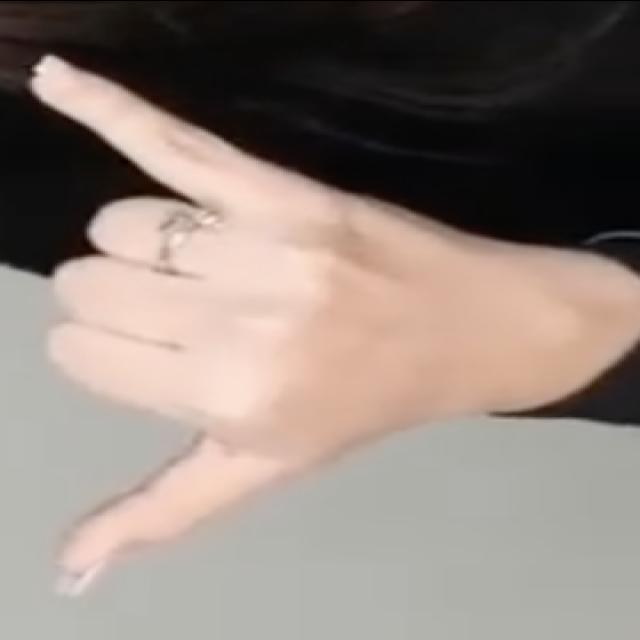Y: (18, 40, 478, 612)
